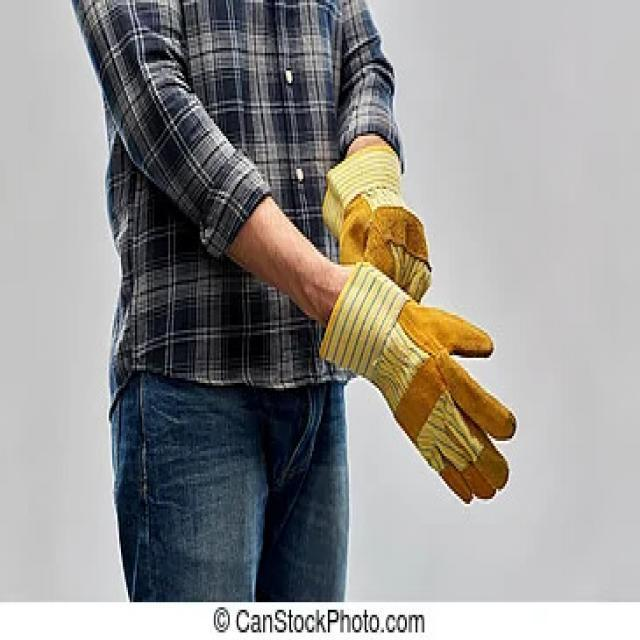Gloves: (307, 256, 516, 513), (304, 134, 437, 297)
